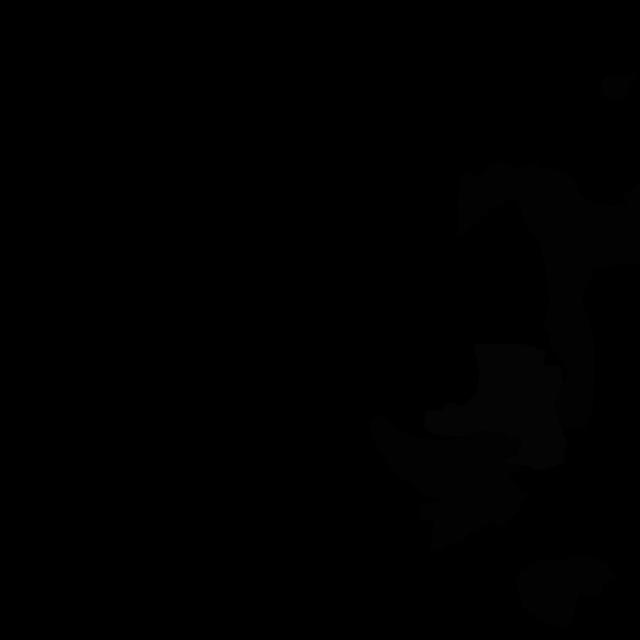cardboard: (457, 160, 640, 429), (416, 430, 531, 551), (368, 415, 470, 499), (515, 554, 618, 628), (600, 72, 638, 102)
soft_plastic: (424, 344, 568, 470)
